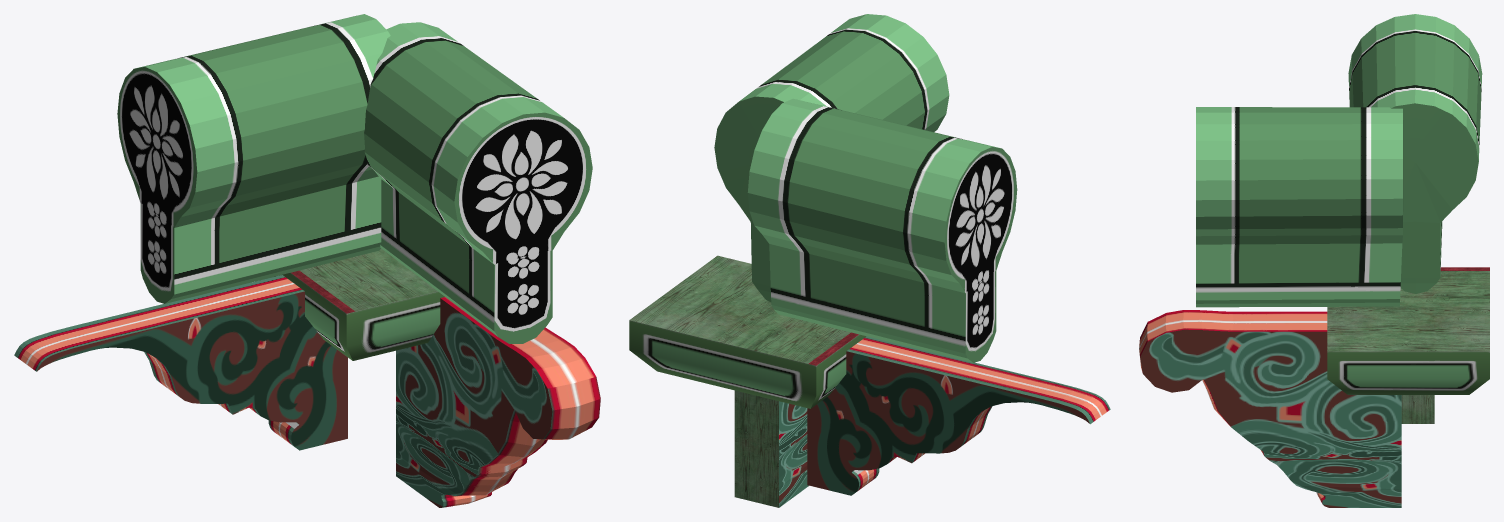
The model's file is SM_R_DancheongCorner_9.fbx.
The picture shows the model from 3 angles, left to right: view 1: azimuth 30°, elevation 25°; view 2: azimuth 150°, elevation 25°; view 3: azimuth 270°, elevation 25°; orthographic projection. The views are drawn at different scales.
Parts seen in each view (by area): view 1: SM_R_DancheongCorner_9; view 2: SM_R_DancheongCorner_9; view 3: SM_R_DancheongCorner_9.
Boxes of the visible parts, x1,y1,x2,y2 form: SM_R_DancheongCorner_9: (14,14,600,507); SM_R_DancheongCorner_9: (629,14,1110,507); SM_R_DancheongCorner_9: (1139,14,1489,507).
Bounding box in the file's own units: 112 × 85.84 × 103.
5 materials, 5 textured.
